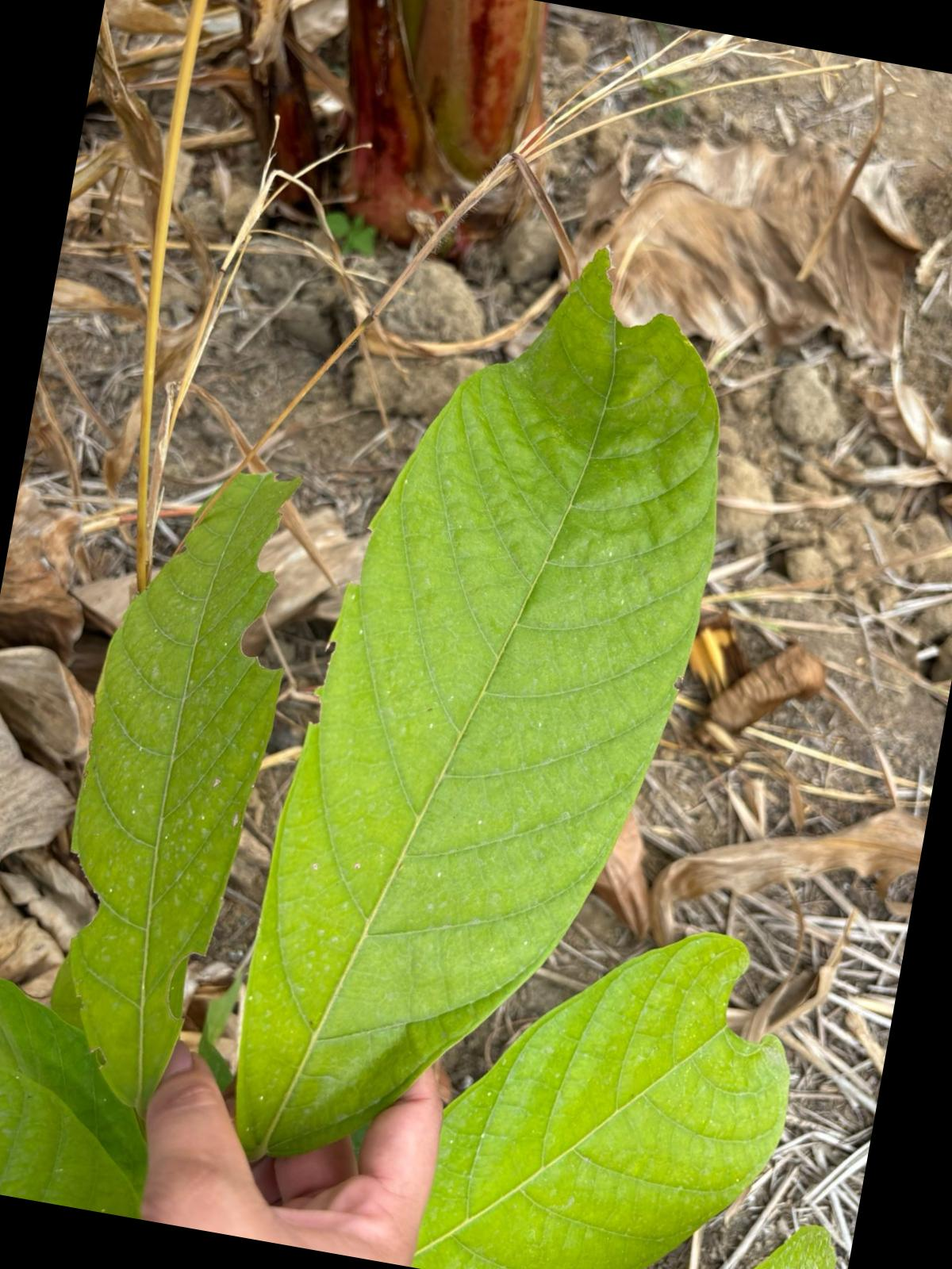Nitrogeno: (237, 251, 717, 1157), (413, 934, 789, 1268)
